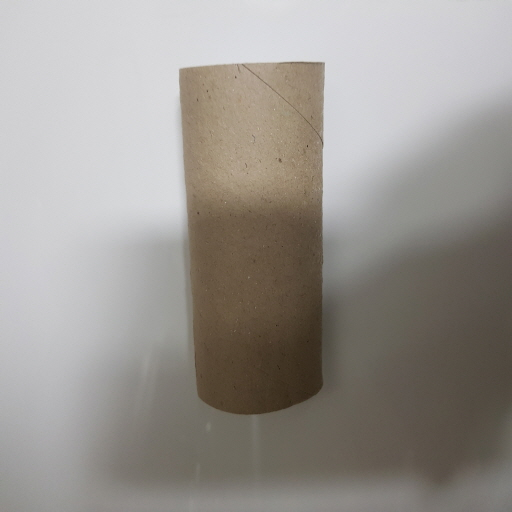Paper_0: (167, 56, 347, 415)
